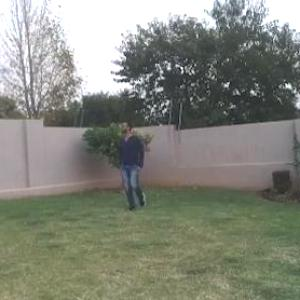follow: (116, 116, 149, 217)
